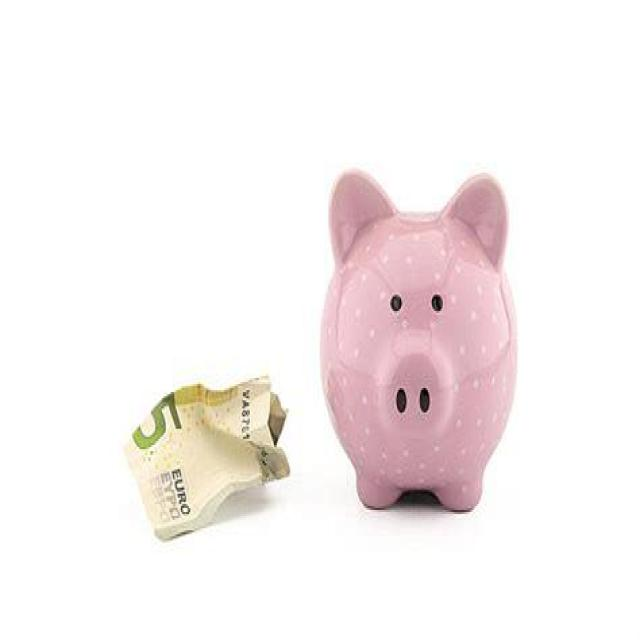banknote: (134, 367, 294, 545), (134, 385, 184, 456)
